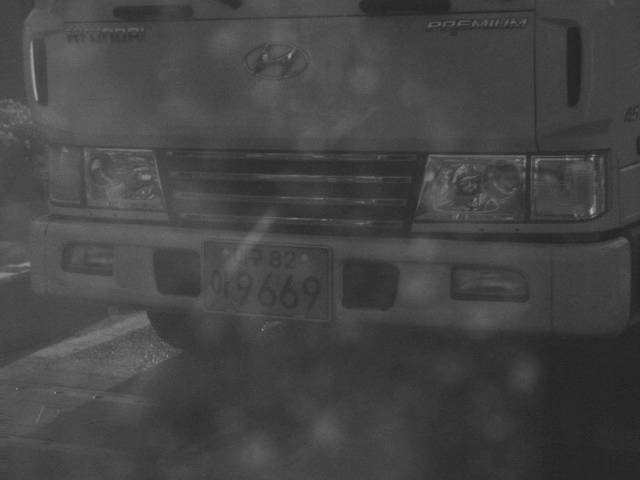car: (19, 1, 640, 367)
plate: (202, 238, 334, 323)
